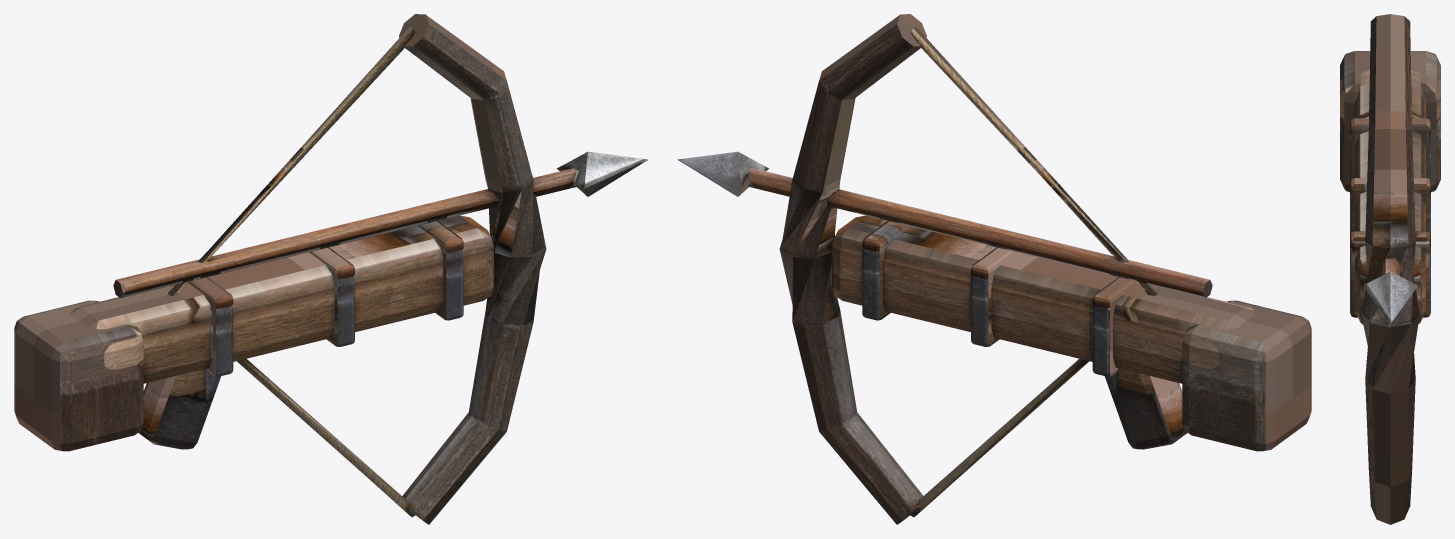
The model's file is crossbow.glb.
3 renders of one model, left to right at view 1: azimuth 30°, elevation 25°; view 2: azimuth 150°, elevation 25°; view 3: azimuth 270°, elevation 25°, orthographic.
Parts seen in each view (by area): view 1: Crossbow wooden stock, Crossbow curved bow limbs, Crossbow rear stock, Loaded crossbow bolt, Taut crossbow string, Crossbow pistol grip, Crossbow iron stock band, Crossbow iron stock band.002, Crossbow iron stock band.001, Crossbow bolt point; view 2: Crossbow wooden stock, Crossbow curved bow limbs, Crossbow rear stock, Loaded crossbow bolt, Taut crossbow string, Crossbow pistol grip, Crossbow iron stock band, Crossbow iron stock band.002, Crossbow iron stock band.001, Crossbow bolt point; view 3: Crossbow curved bow limbs, Crossbow wooden stock, Crossbow rear stock, Crossbow bolt point, Crossbow iron stock band.002, Crossbow iron stock band, Crossbow iron stock band.001, Loaded crossbow bolt.
Part boxes in pixels (x1,y1,x2,y2): Crossbow wooden stock: (70, 215, 493, 383); Crossbow curved bow limbs: (399, 14, 546, 524); Crossbow rear stock: (14, 300, 143, 451); Loaded crossbow bolt: (113, 168, 578, 298); Taut crossbow string: (168, 27, 416, 517); Crossbow pistol grip: (138, 368, 221, 449); Crossbow iron stock band: (188, 277, 233, 376); Crossbow iron stock band.002: (418, 221, 463, 320); Crossbow iron stock band.001: (309, 247, 354, 346); Crossbow bolt point: (557, 151, 648, 196); Crossbow wooden stock: (832, 215, 1255, 383); Crossbow curved bow limbs: (779, 14, 926, 524); Crossbow rear stock: (1182, 300, 1311, 451); Loaded crossbow bolt: (747, 168, 1212, 298); Taut crossbow string: (909, 27, 1157, 517); Crossbow pistol grip: (1104, 368, 1187, 449); Crossbow iron stock band: (1092, 277, 1137, 376); Crossbow iron stock band.002: (862, 221, 907, 320); Crossbow iron stock band.001: (971, 247, 1016, 346); Crossbow bolt point: (677, 151, 768, 196); Crossbow curved bow limbs: (1361, 14, 1419, 524); Crossbow wooden stock: (1355, 68, 1425, 324); Crossbow rear stock: (1340, 51, 1440, 191); Crossbow bolt point: (1363, 271, 1417, 323); Crossbow iron stock band.002: (1350, 231, 1430, 317); Crossbow iron stock band: (1350, 118, 1430, 181); Crossbow iron stock band.001: (1350, 178, 1430, 235); Loaded crossbow bolt: (1381, 258, 1399, 275).
Size of the model in its own units: 1.41 by 1.12 by 0.2.
4 materials, 4 textured.
